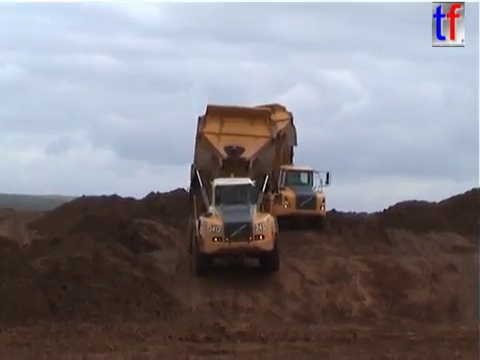truck: (184, 101, 282, 277), (230, 101, 333, 233)
